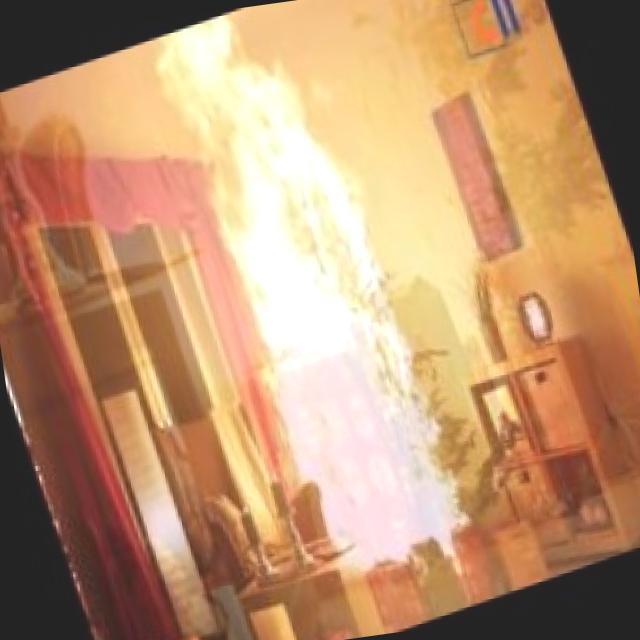fire: (121, 0, 519, 601)
